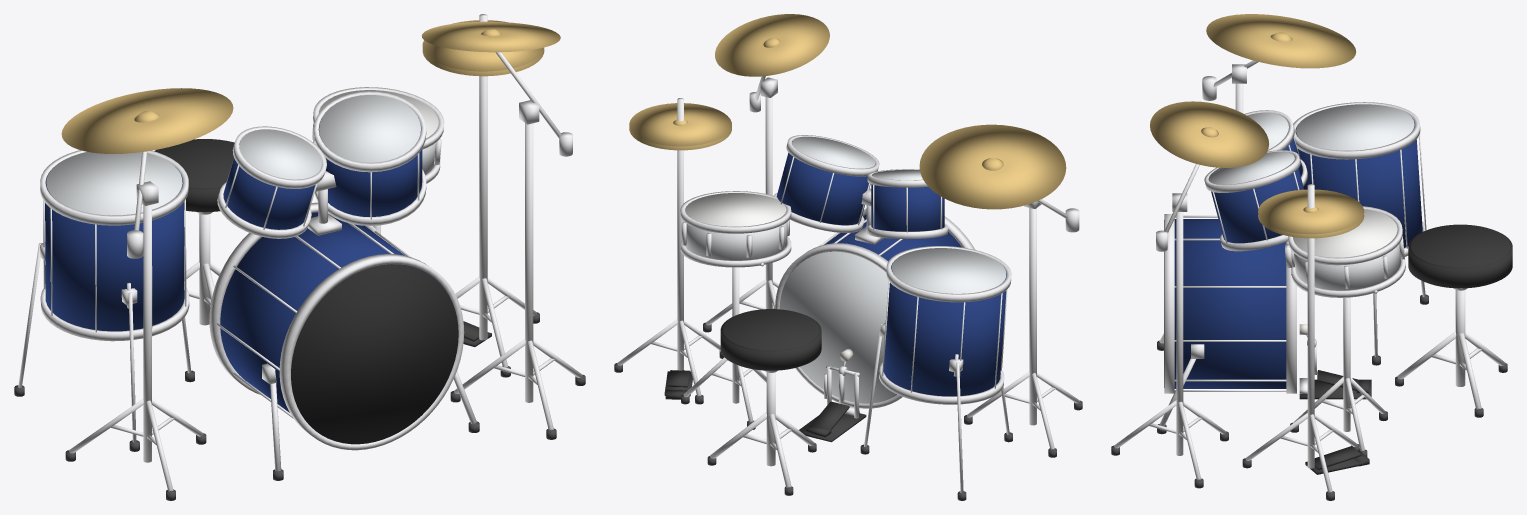
3 views of the same model, side by side, from view 1: azimuth 30°, elevation 25°; view 2: azimuth 150°, elevation 25°; view 3: azimuth 270°, elevation 25° (orthographic). The views are drawn at different scales.
Visible parts, largest first — view 1: BassDrum, FloorTom, RackToms, RideCymbal, CrashCymbal, HiHatStand, DrumThrone, SnareDrum; view 2: FloorTom, BassDrum, RideCymbal, RackToms, SnareDrum, CrashCymbal, DrumThrone, HiHatStand, BassDrumPedal; view 3: BassDrum, FloorTom, CrashCymbal, SnareDrum, HiHatStand, DrumThrone, RackToms, RideCymbal, BassDrumPedal.
Part boxes in pixels (x1,y1,x2,y2): BassDrum: [209, 202, 479, 480]; FloorTom: [14, 150, 194, 451]; RackToms: [217, 91, 426, 238]; RideCymbal: [61, 88, 233, 500]; CrashCymbal: [421, 21, 585, 439]; HiHatStand: [422, 14, 544, 377]; DrumThrone: [154, 139, 234, 325]; SnareDrum: [312, 87, 444, 234]; FloorTom: [860, 246, 1012, 500]; BassDrum: [775, 208, 975, 408]; RideCymbal: [919, 124, 1082, 457]; RackToms: [773, 135, 947, 239]; SnareDrum: [680, 191, 791, 429]; CrashCymbal: [703, 14, 829, 332]; DrumThrone: [707, 309, 821, 495]; HiHatStand: [614, 98, 731, 404]; BassDrumPedal: [799, 349, 866, 442]; BassDrum: [1157, 214, 1296, 434]; FloorTom: [1293, 102, 1428, 365]; CrashCymbal: [1111, 101, 1268, 488]; SnareDrum: [1285, 206, 1405, 456]; HiHatStand: [1242, 184, 1369, 500]; DrumThrone: [1395, 224, 1512, 417]; RackToms: [1204, 110, 1307, 251]; RideCymbal: [1202, 14, 1356, 113]; BassDrumPedal: [1299, 324, 1371, 399].
Size of the model in its own units: 1.68 by 1.21 by 1.34.
